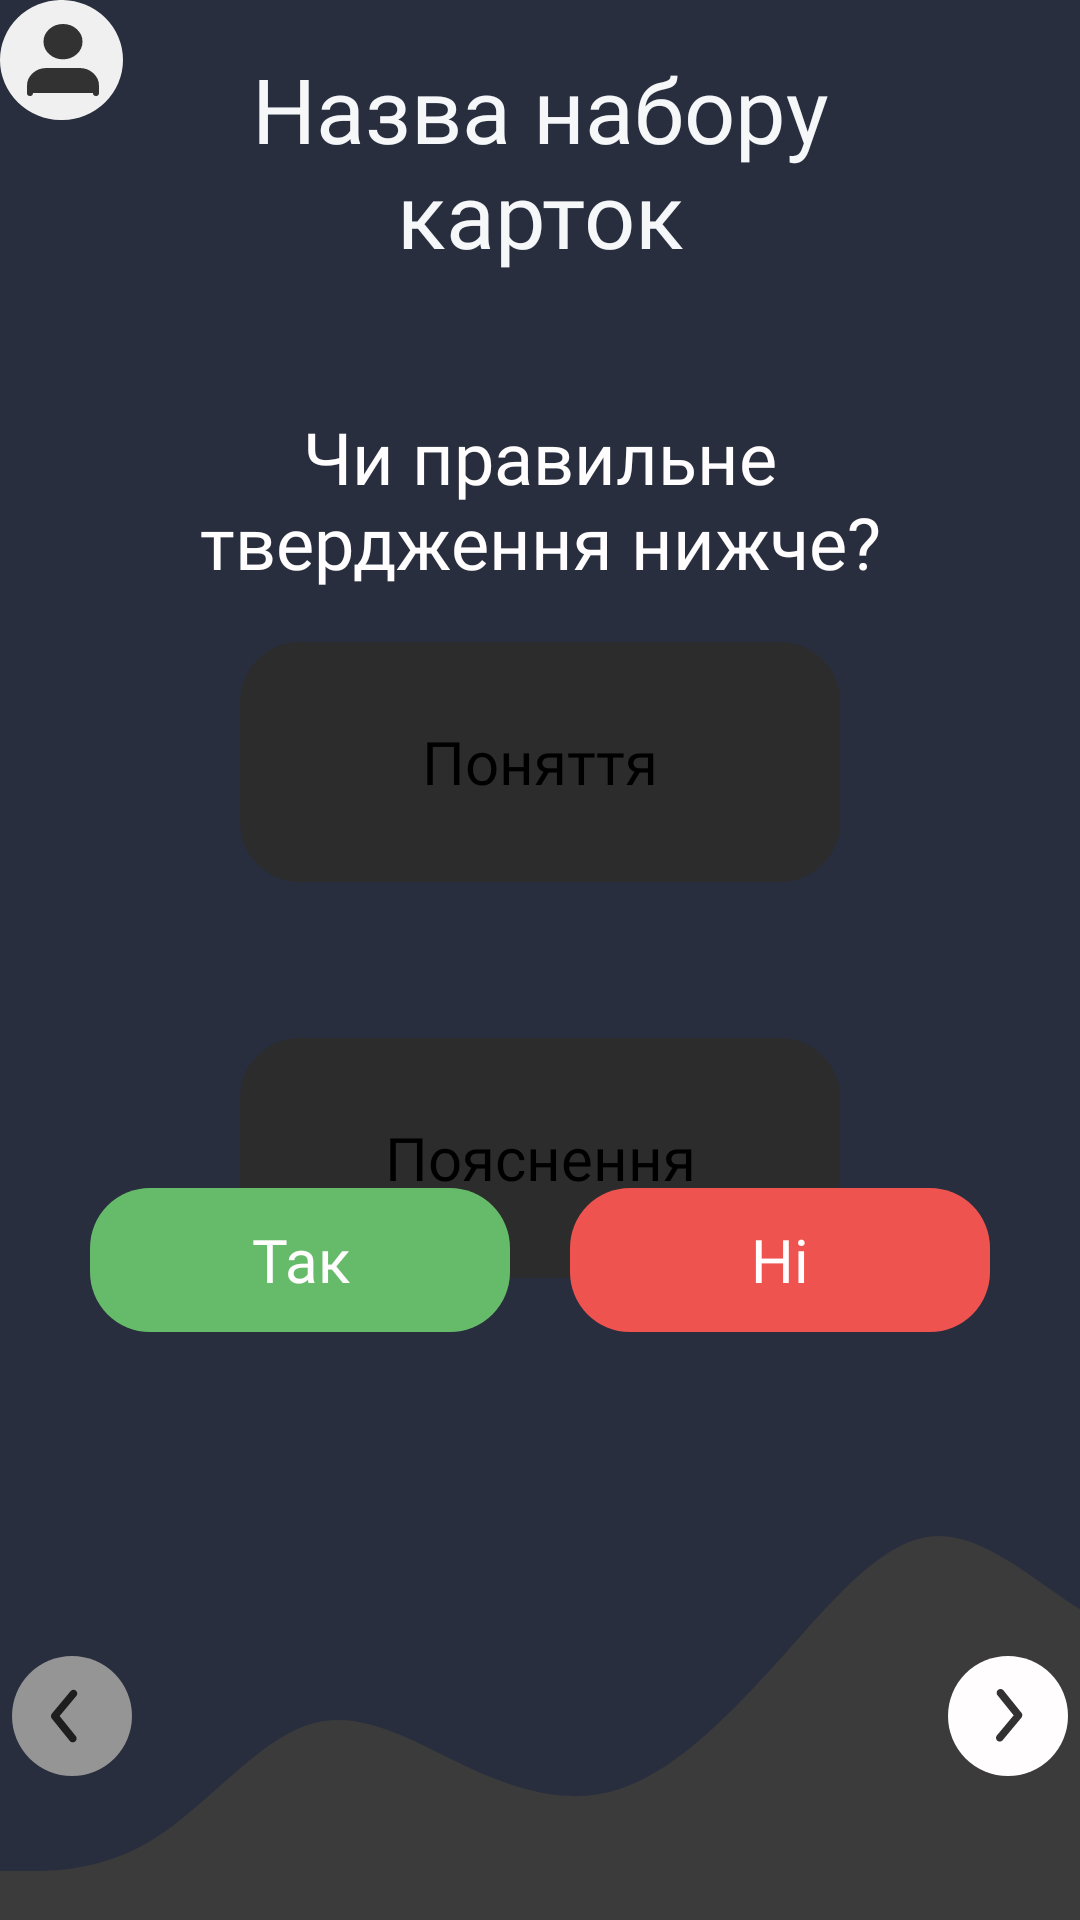

Icon click points for this 1080x1920 phone screenshot, format [x,y]:
left back pas: [72,1716]
right back act: [1008,1716]
